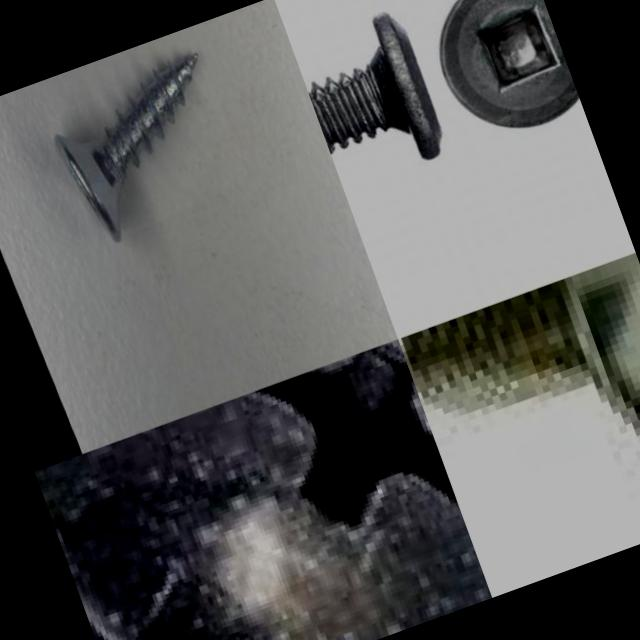Screw: (35, 339, 492, 640), (400, 253, 640, 443), (55, 55, 198, 243), (432, 0, 581, 138), (308, 15, 441, 159)
